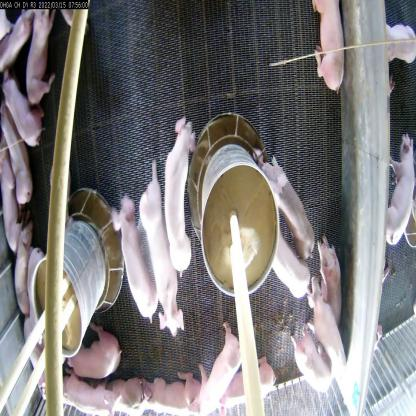Pig: (138, 159, 190, 339), (158, 117, 195, 278), (261, 148, 313, 260), (109, 195, 156, 318), (302, 273, 348, 386), (194, 324, 244, 416), (282, 319, 333, 404), (306, 0, 349, 97), (58, 315, 121, 381), (25, 10, 66, 108), (268, 230, 317, 302), (48, 368, 120, 415), (2, 69, 40, 154), (0, 105, 32, 203), (316, 228, 349, 322), (220, 360, 276, 414), (151, 369, 203, 415), (105, 380, 159, 416), (15, 222, 36, 313), (0, 148, 17, 256)
